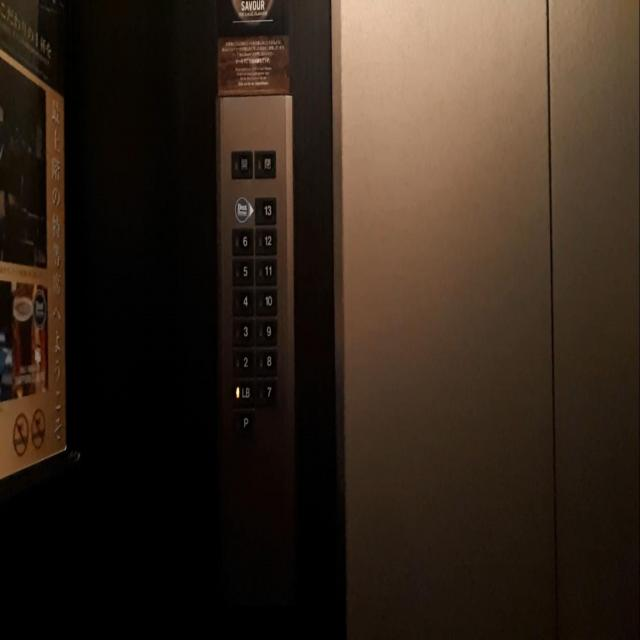10: (254, 282, 277, 314)
11: (254, 252, 277, 284)
12: (254, 222, 277, 256)
13: (253, 193, 276, 227)
2: (231, 343, 255, 377)
3: (231, 313, 255, 347)
4: (230, 282, 255, 315)
5: (230, 252, 255, 285)
6: (230, 224, 254, 258)
7: (254, 374, 278, 409)
8: (253, 343, 278, 377)
9: (254, 313, 278, 346)
LB: (231, 375, 256, 410)
P: (230, 406, 256, 442)
text: (252, 148, 276, 178), (229, 148, 253, 178)
